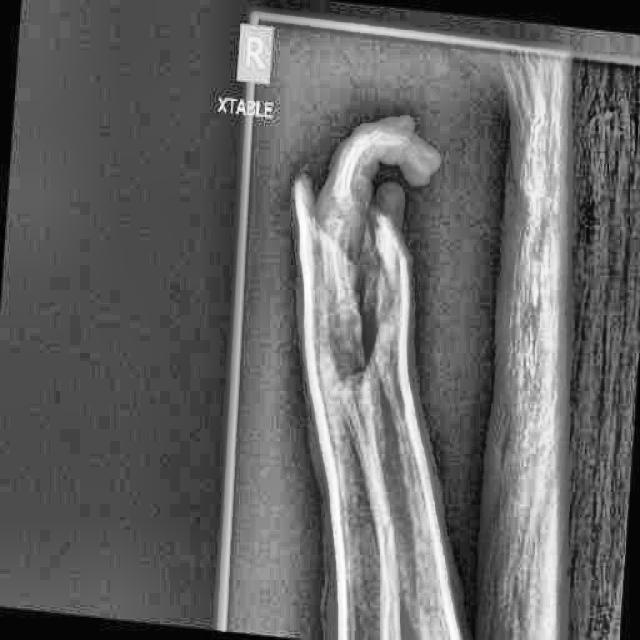forearm fracture: (373, 495, 417, 626)
